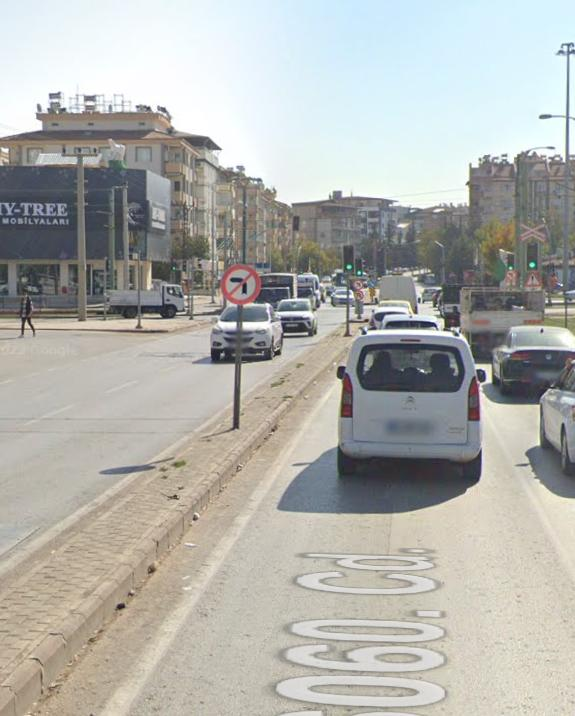greenlight: (344, 244, 354, 272), (528, 242, 537, 269), (507, 253, 514, 271), (356, 258, 363, 276)
leftturnsareforbidden: (223, 267, 261, 303), (507, 271, 517, 282), (353, 280, 363, 289)
